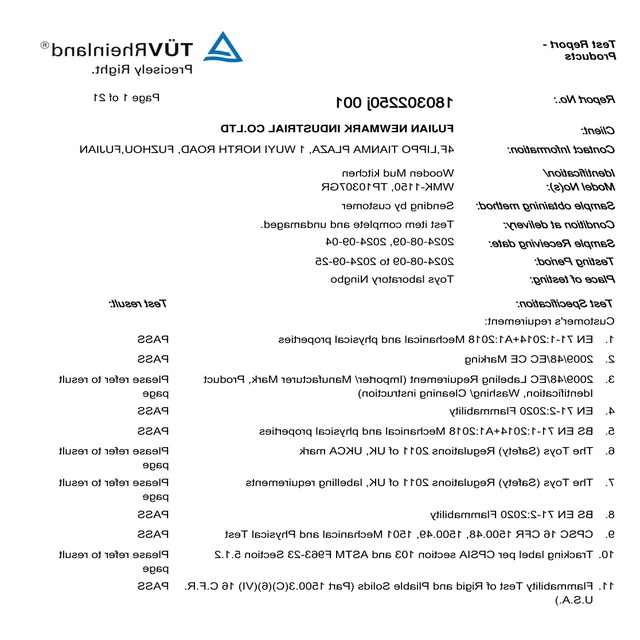tuv_rheinland: (35, 33, 252, 68)
